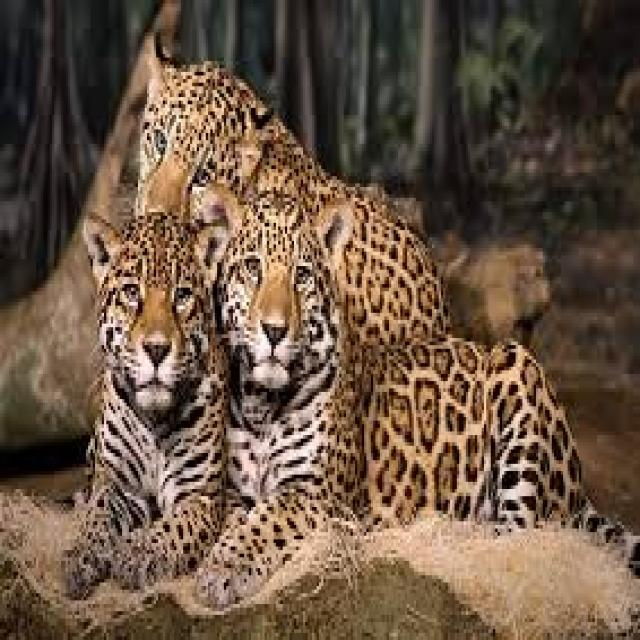Jaguar: (213, 190, 545, 564), (138, 29, 436, 327), (84, 201, 219, 597)
